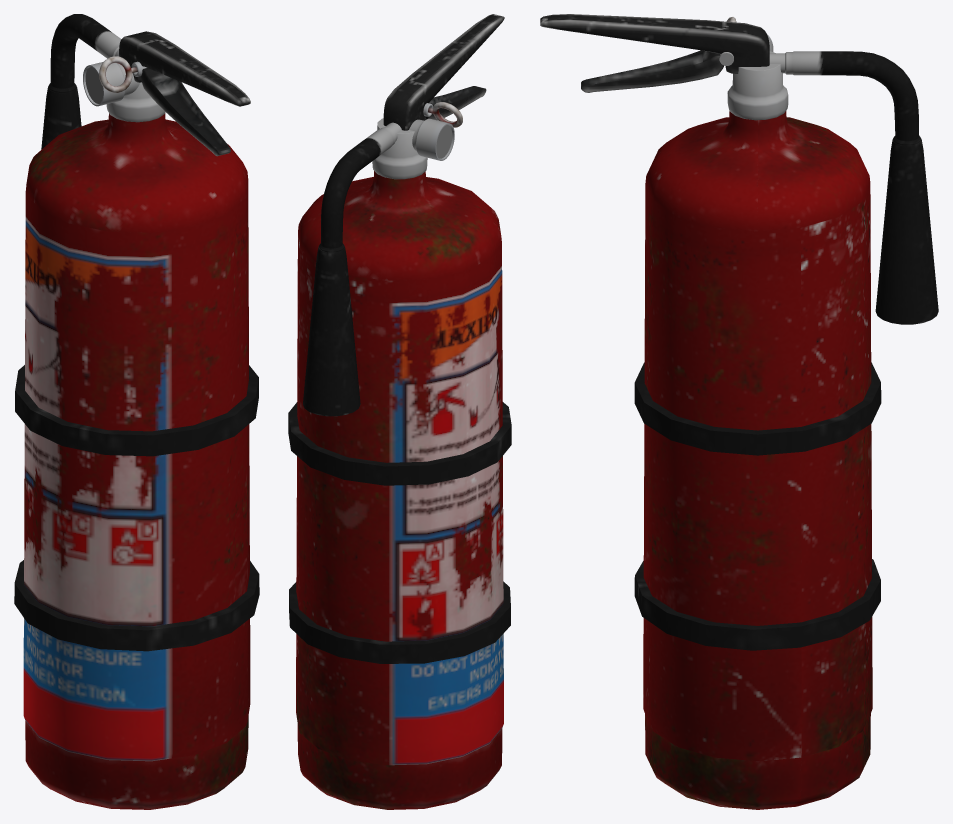
The model's file is Prop_FireExtinguisher_1.fbx.
3 renders of one model, left to right at view 1: azimuth 30°, elevation 25°; view 2: azimuth 150°, elevation 25°; view 3: azimuth 270°, elevation 25°, orthographic. The views are drawn at different scales.
Parts seen in each view (by area): view 1: Prop_FireExtinguisher_1; view 2: Prop_FireExtinguisher_1; view 3: Prop_FireExtinguisher_1.
Part boxes in pixels (x1,y1,x2,y2): Prop_FireExtinguisher_1: [14, 14, 259, 809]; Prop_FireExtinguisher_1: [288, 14, 511, 809]; Prop_FireExtinguisher_1: [540, 14, 938, 809].
Size of the model in its own units: 8.16 by 27.46 by 13.19.
